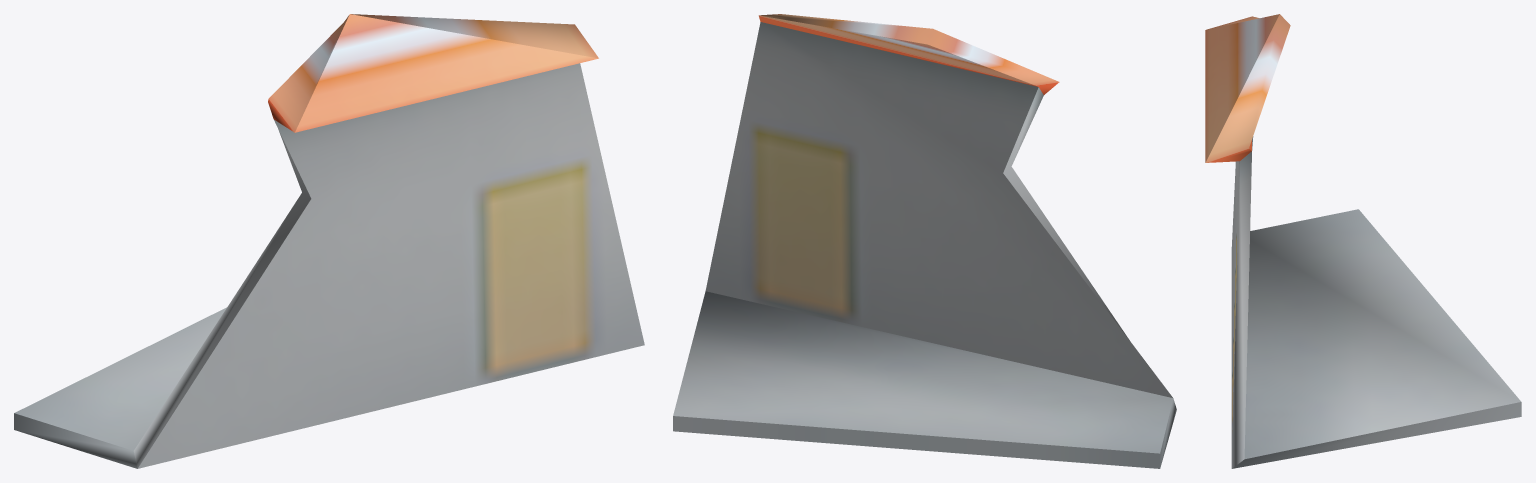
Rendered from B3Broke03.FBX.
The picture shows the model from 3 angles, left to right: view 1: azimuth 30°, elevation 25°; view 2: azimuth 150°, elevation 25°; view 3: azimuth 270°, elevation 25°; orthographic projection. The views are drawn at different scales.
Visible parts, largest first — view 1: B3Broke03; view 2: B3Broke03; view 3: B3Broke03.
Part boxes in pixels (<box>): B3Broke03: <box>14,14,644,468</box>; B3Broke03: <box>673,14,1176,468</box>; B3Broke03: <box>1205,14,1521,468</box>.
Size of the model in its own units: 48.24 by 31.04 by 26.32.
